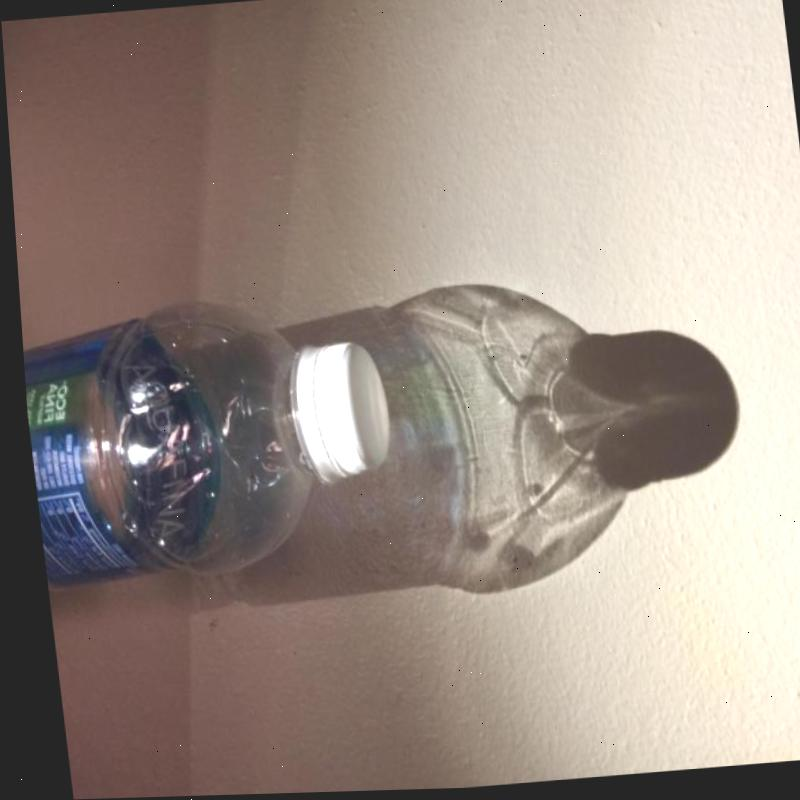botella: (15, 285, 405, 593)
